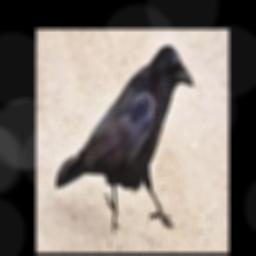Crow: (56, 45, 194, 233)
